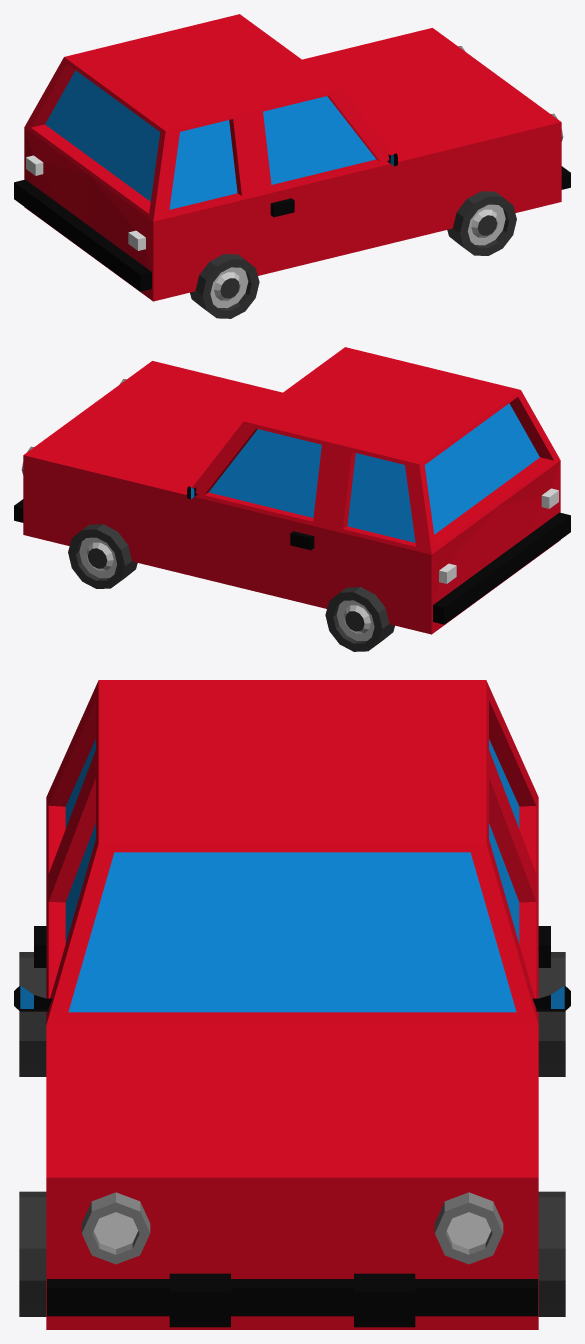
File: Car.fbx
The picture shows the model from 3 angles, top to bottom: view 1: azimuth 30°, elevation 25°; view 2: azimuth 150°, elevation 25°; view 3: azimuth 270°, elevation 25°; orthographic projection. The views are drawn at different scales.
Visible parts, largest first — view 1: Cube, Cylinder.001; view 2: Cube, Cylinder.001; view 3: Cube, Cylinder.001, Cylinder.
Part boxes in pixels (left/top/right/bottom): Cube: left=14, top=14, right=570, bottom=301; Cylinder.001: left=190, top=191, right=516, bottom=318; Cube: left=14, top=347, right=570, bottom=634; Cylinder.001: left=68, top=524, right=394, bottom=651; Cube: left=14, top=680, right=570, bottom=1329; Cylinder.001: left=19, top=952, right=565, bottom=1316; Cylinder: left=81, top=1192, right=503, bottom=1264.
Size of the model in its own units: 392 by 157 by 226.
